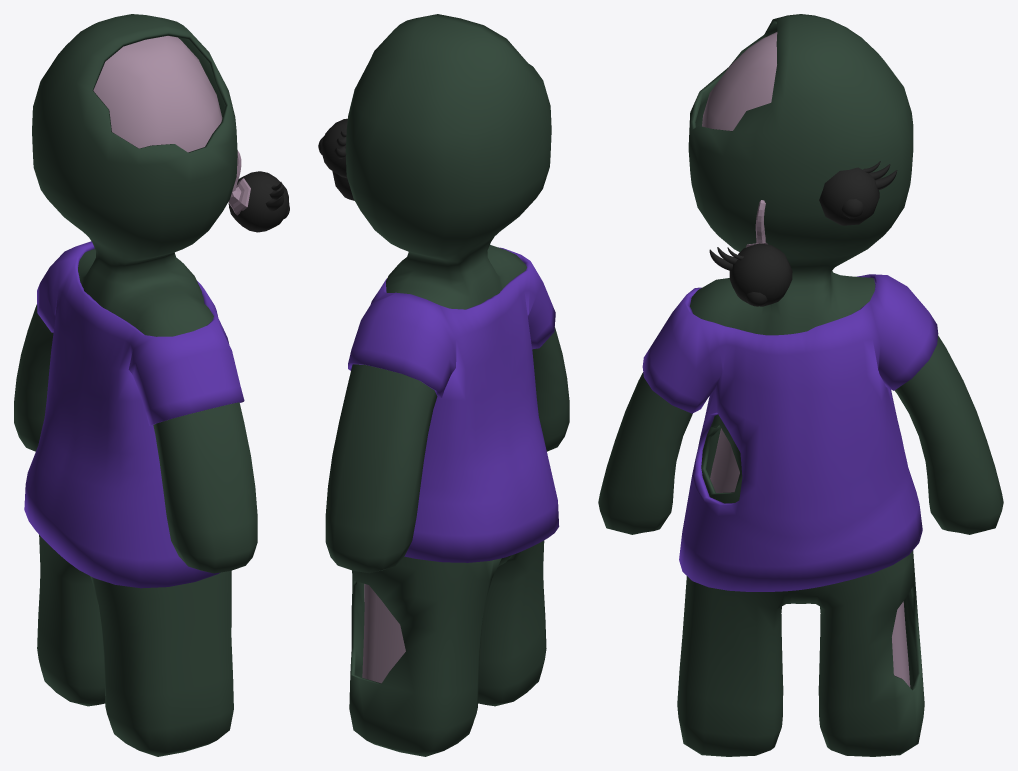
File: zombifem.fbx
3 views of the same model, side by side, from view 1: azimuth 30°, elevation 25°; view 2: azimuth 150°, elevation 25°; view 3: azimuth 270°, elevation 25° (orthographic). The views are drawn at different scales.
Parts seen in each view (by area): view 1: body_zombie_girl, shirt_zombie_girl, pink_body_girl, eyes_zombie_girl, goop_girl; view 2: body_zombie_girl, shirt_zombie_girl, pink_body_girl, eyes_zombie_girl; view 3: body_zombie_girl, shirt_zombie_girl, pink_body_girl, eyes_zombie_girl, lashes_lobi_girl.002.
Part boxes in pixels (left/top/right/bottom): body_zombie_girl: left=14, top=14, right=257, bottom=756; shirt_zombie_girl: left=24, top=241, right=244, bottom=588; pink_body_girl: left=93, top=36, right=222, bottom=152; eyes_zombie_girl: left=228, top=171, right=289, bottom=232; goop_girl: left=229, top=150, right=250, bottom=215; body_zombie_girl: left=325, top=14, right=569, bottom=756; shirt_zombie_girl: left=348, top=247, right=559, bottom=562; pink_body_girl: left=362, top=584, right=405, bottom=683; eyes_zombie_girl: left=318, top=118, right=354, bottom=200; body_zombie_girl: left=598, top=14, right=1003, bottom=756; shirt_zombie_girl: left=642, top=274, right=938, bottom=591; pink_body_girl: left=702, top=32, right=910, bottom=687; eyes_zombie_girl: left=729, top=167, right=879, bottom=306; lashes_lobi_girl.002: left=709, top=161, right=897, bottom=270.
Size of the model in its own units: 241 by 733 by 376.
